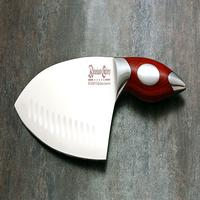knife: (12, 52, 189, 171)
